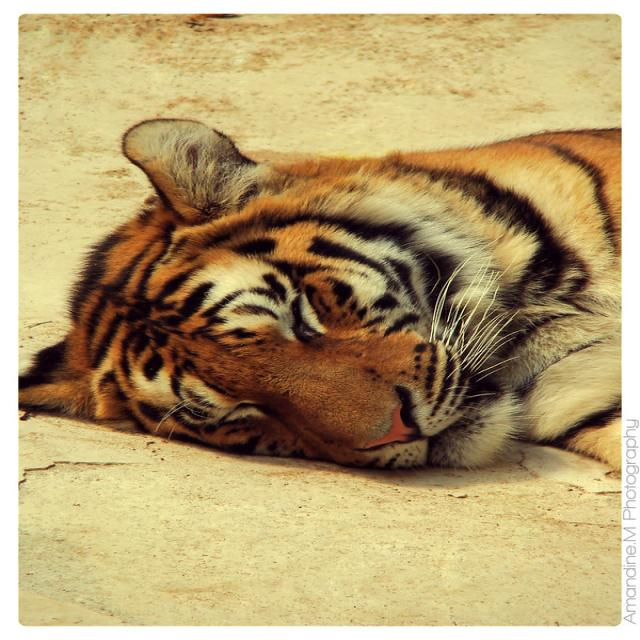Tiger: (21, 116, 619, 494)
